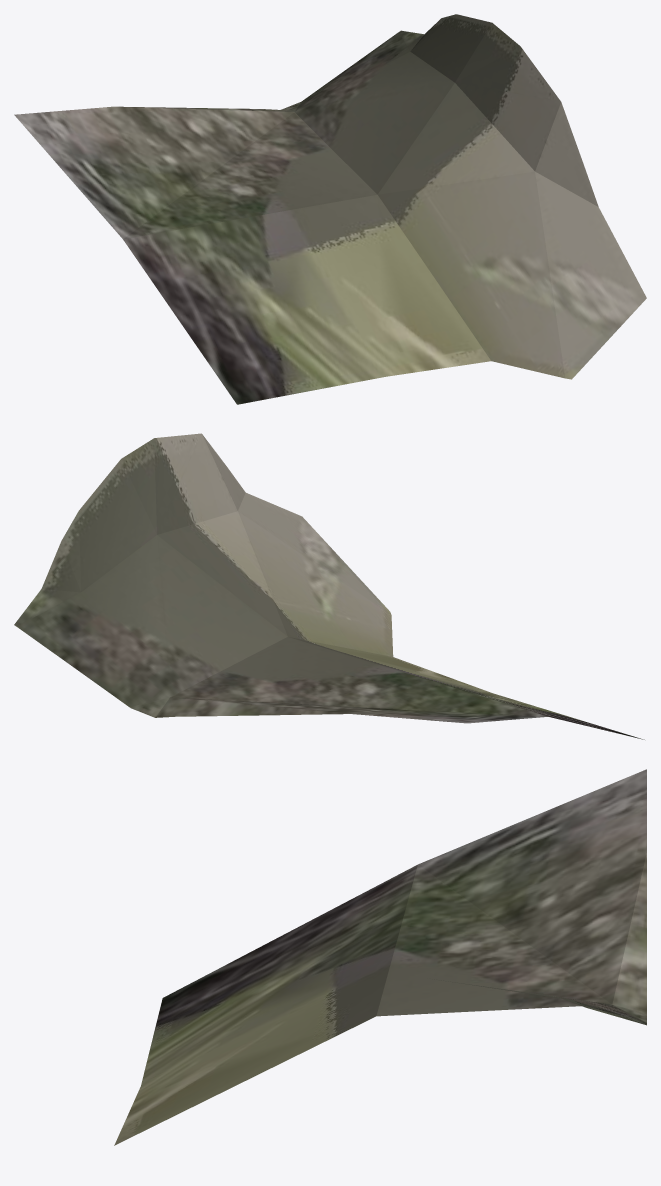
The picture shows the model from 3 angles, top to bottom: view 1: azimuth 30°, elevation 25°; view 2: azimuth 150°, elevation 25°; view 3: azimuth 270°, elevation 25°; orthographic projection. The views are drawn at different scales.
Size of the model in its own units: 5.36 by 2.98 by 5.9.
Materials: 2 (2 with a texture image).
